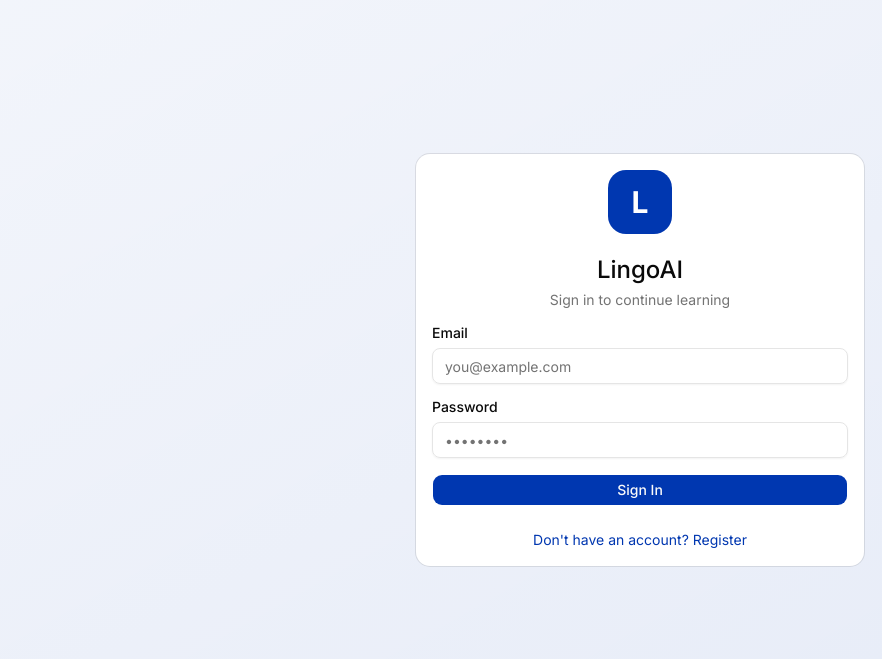
it: LoginPage › switches to register form when toggle clicked
The width and height of the screenshot is (882, 659).
Step 1. Click the button "Don't have an account? Register" → [640, 540], box [533,530,747,550]
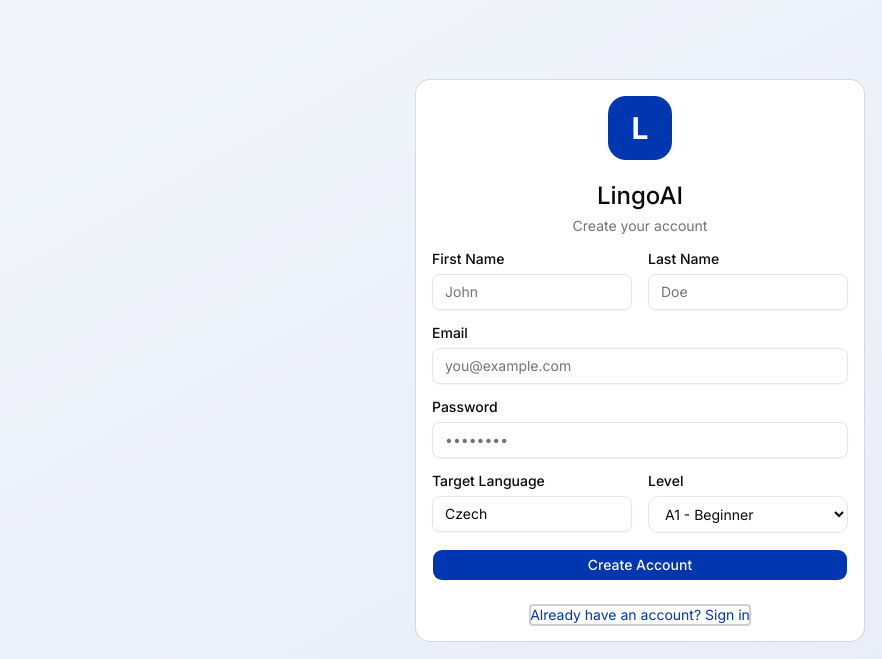
Now the field labelled "First Name" is shown, box [432,274,632,310]
Now the field labelled "Last Name" is shown, box [648,274,848,310]
Now the button "Create Account" is shown, box [432,548,848,580]
